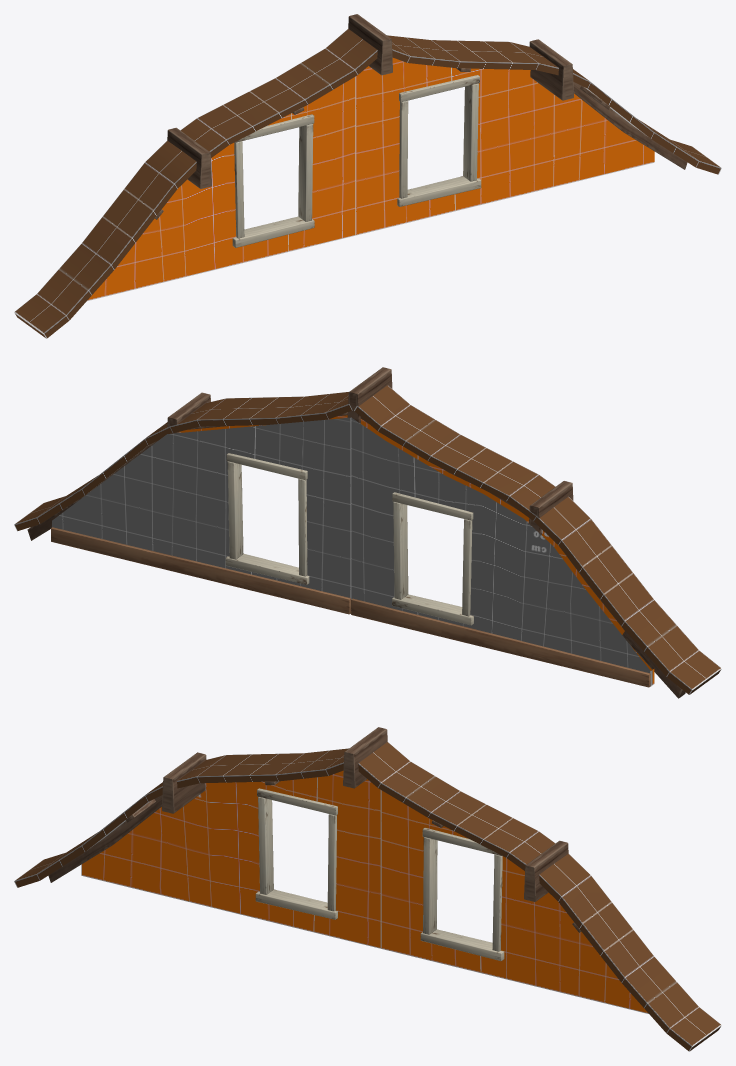
Rendered from Hangar01RE_5.FBX.
The picture shows the model from 3 angles, top to bottom: view 1: azimuth 30°, elevation 25°; view 2: azimuth 150°, elevation 25°; view 3: azimuth 330°, elevation 25°; orthographic projection.
Visible parts, largest first — view 1: Hangar01RE_5; view 2: Hangar01RE_5; view 3: Hangar01RE_5.
Boxes of the visible parts, x1,y1,x2,y2 form: Hangar01RE_5: (14,14,721,338); Hangar01RE_5: (14,367,721,698); Hangar01RE_5: (14,727,721,1051).
Size of what is drawn, in the model's own units: 10.2 by 3.27 by 0.9937.
